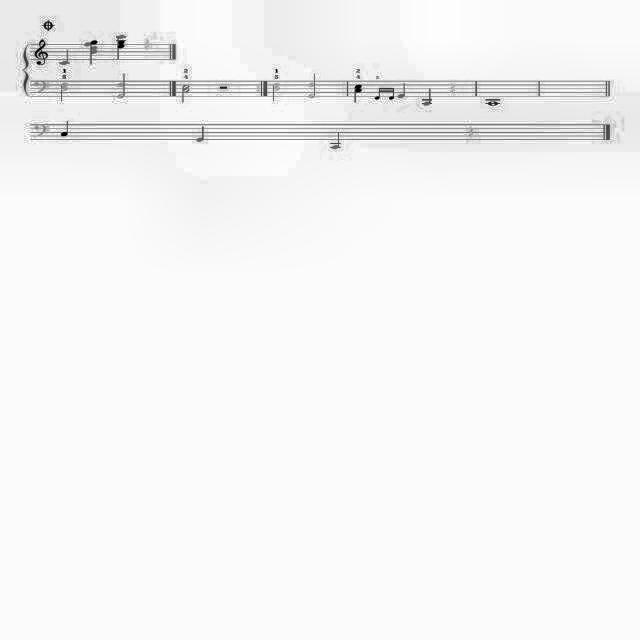Bass-clef: (34, 117, 51, 151), (31, 76, 51, 102)
Eighth-note: (58, 44, 76, 68)
Full-note: (483, 94, 507, 110)
Half-note: (113, 70, 135, 102), (304, 68, 322, 104), (269, 70, 283, 110), (57, 76, 71, 104), (182, 78, 194, 110)
Half-rest: (217, 84, 231, 96)
Quarter-note: (315, 120, 349, 152), (190, 121, 214, 155), (111, 30, 133, 66), (420, 82, 444, 110), (395, 77, 415, 105), (57, 116, 75, 146), (84, 36, 102, 66), (354, 75, 366, 112)
Quarter-rest: (448, 78, 458, 102), (142, 38, 150, 62), (466, 125, 476, 144)
Sixteenth-note: (373, 74, 387, 106), (384, 81, 396, 107)
Treble-clef: (30, 40, 50, 70)
